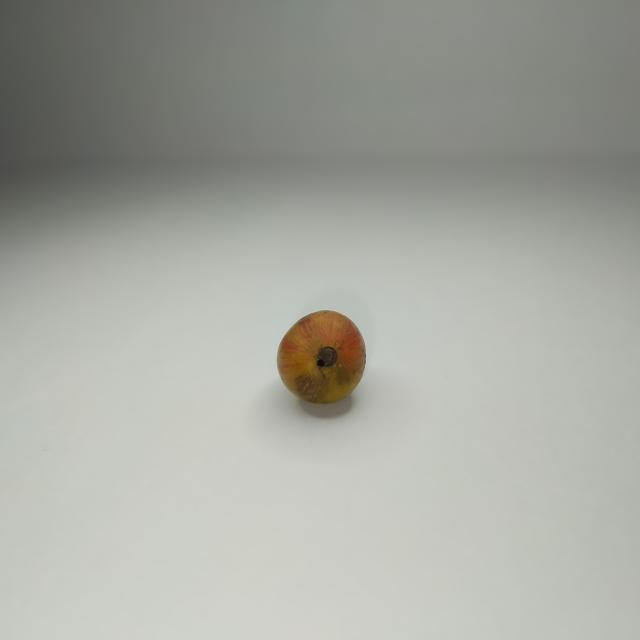Infectado: (278, 311, 363, 404)
